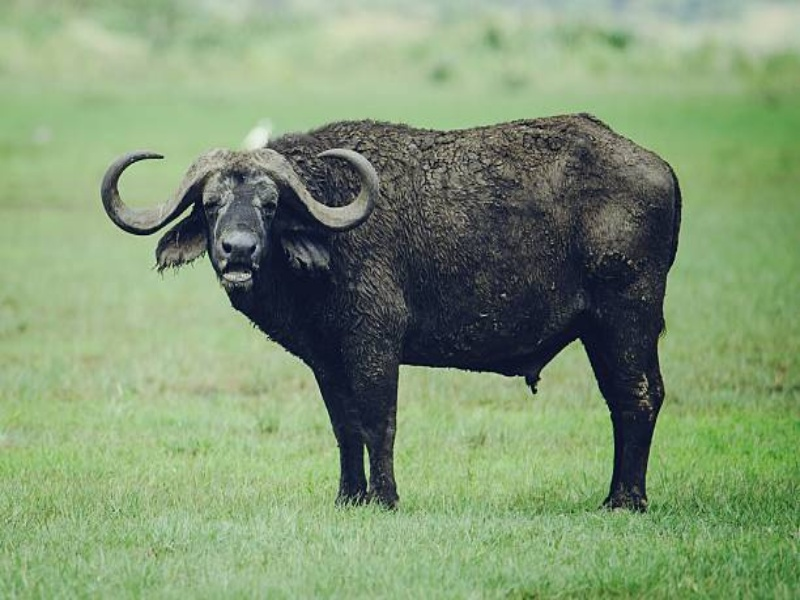buffalo: (88, 111, 702, 537)
